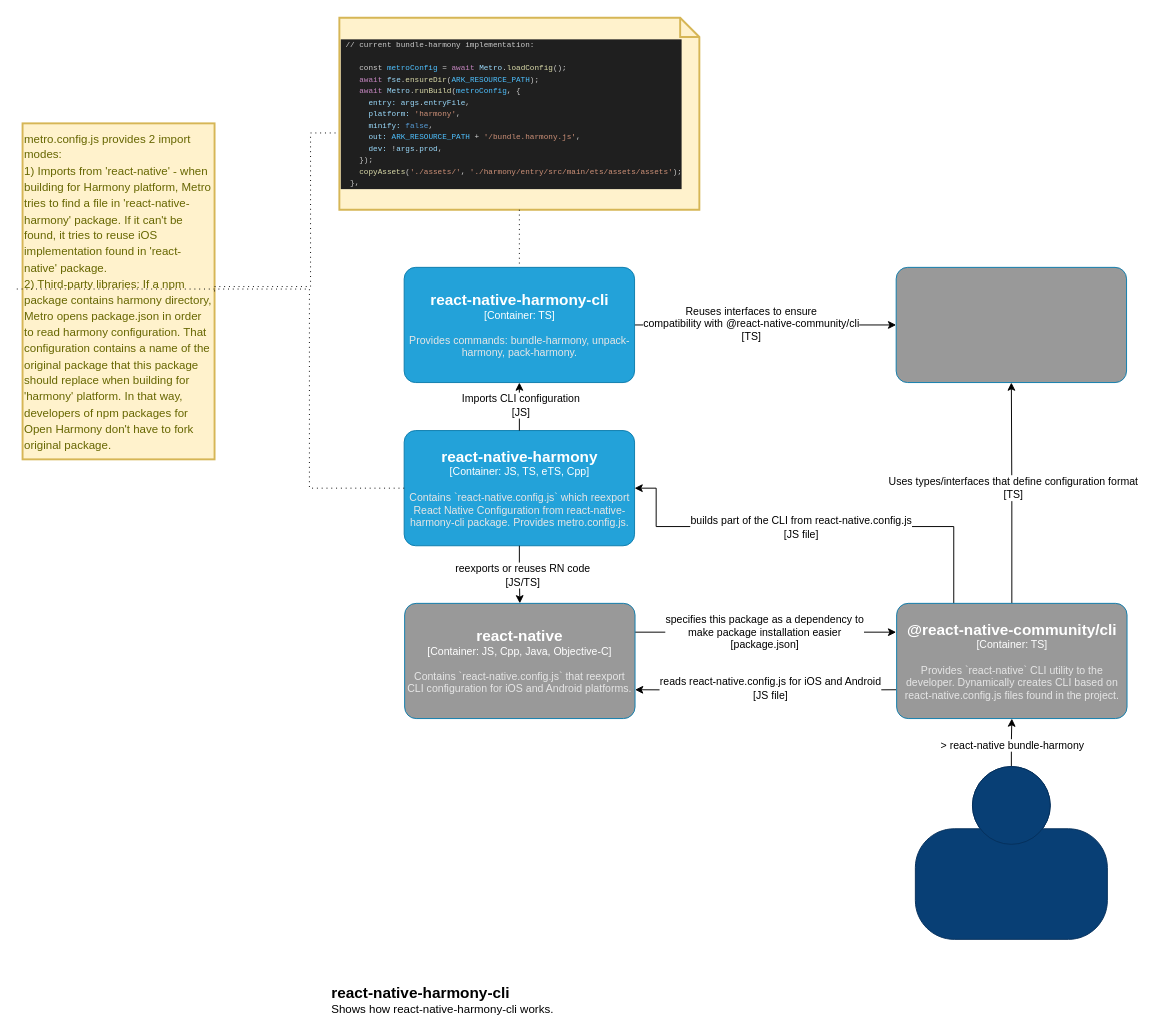
This 1154x1033 diagram has some shape labels left out. Here are the shapes that lost their labels. From the top down, the centre of each, then its label:
At [1011,324]: "@react-native-community/cli-types [Container: TS] Abstract package.".
At [1010,852]: "RN app developer [Person]".
